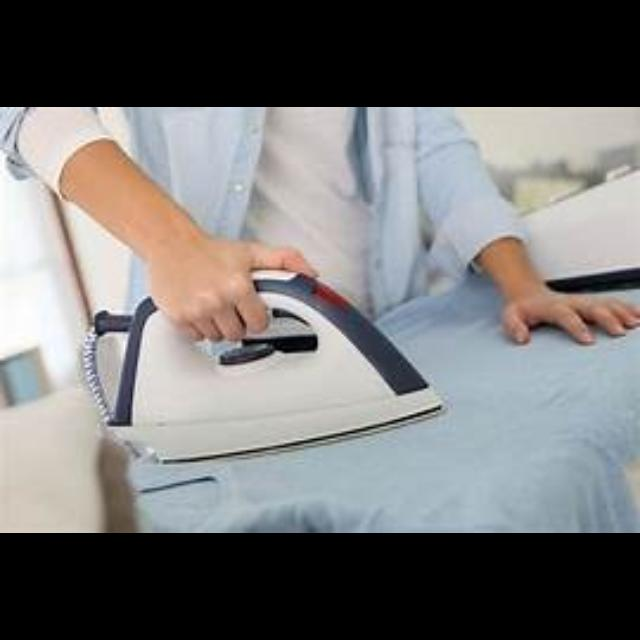Clothes-Iron: (70, 266, 462, 474)
